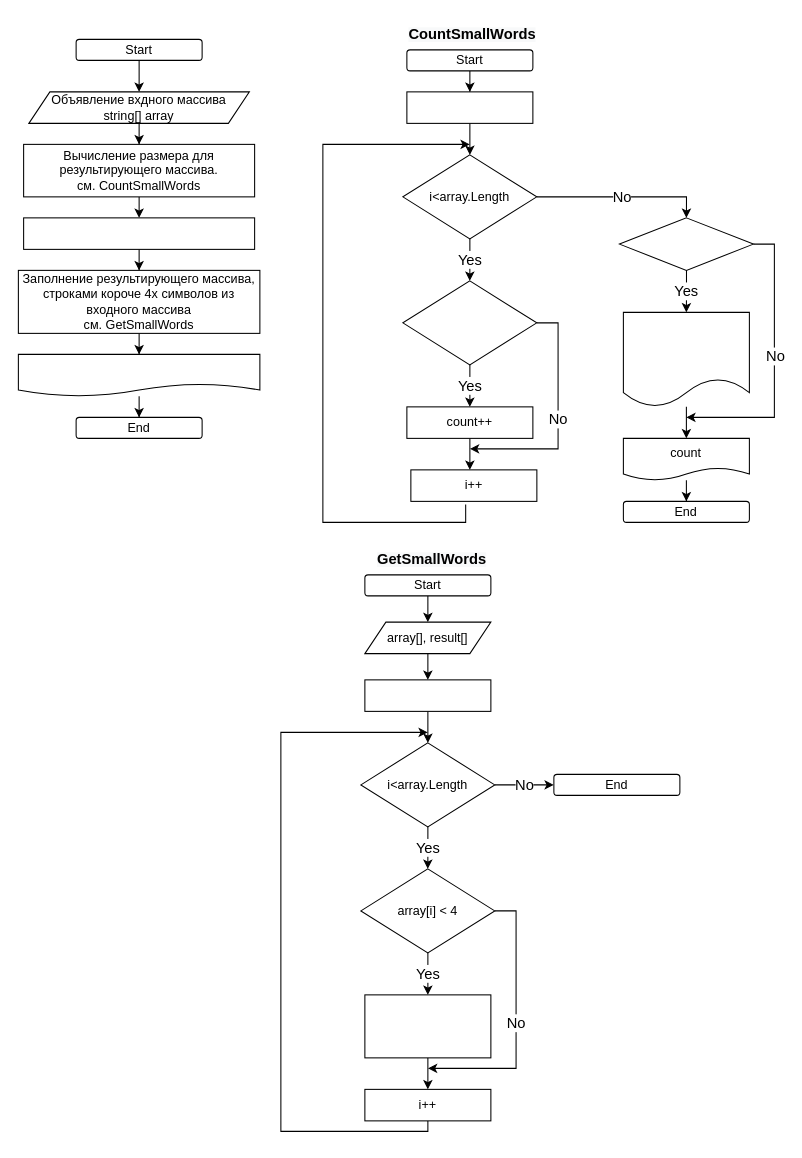
Some shapes in this 802 by 1158 pixel diagram are drawn without their labels. Here are the shapes that lost their labels. From the top down, the centre of each, then its label:
point (469, 107): count = 0 i=0
point (139, 233): Создание результирующего массива string[] result
point (685, 243): count == 0
point (469, 322): array[i].Length < 4
point (138, 374): Вывод результирующего массива string[] result
point (685, 359): "There're no any strings in the array less then 4 chars long."
point (427, 695): index = 0 i=0
point (427, 1026): result[index] = array[i] index++
